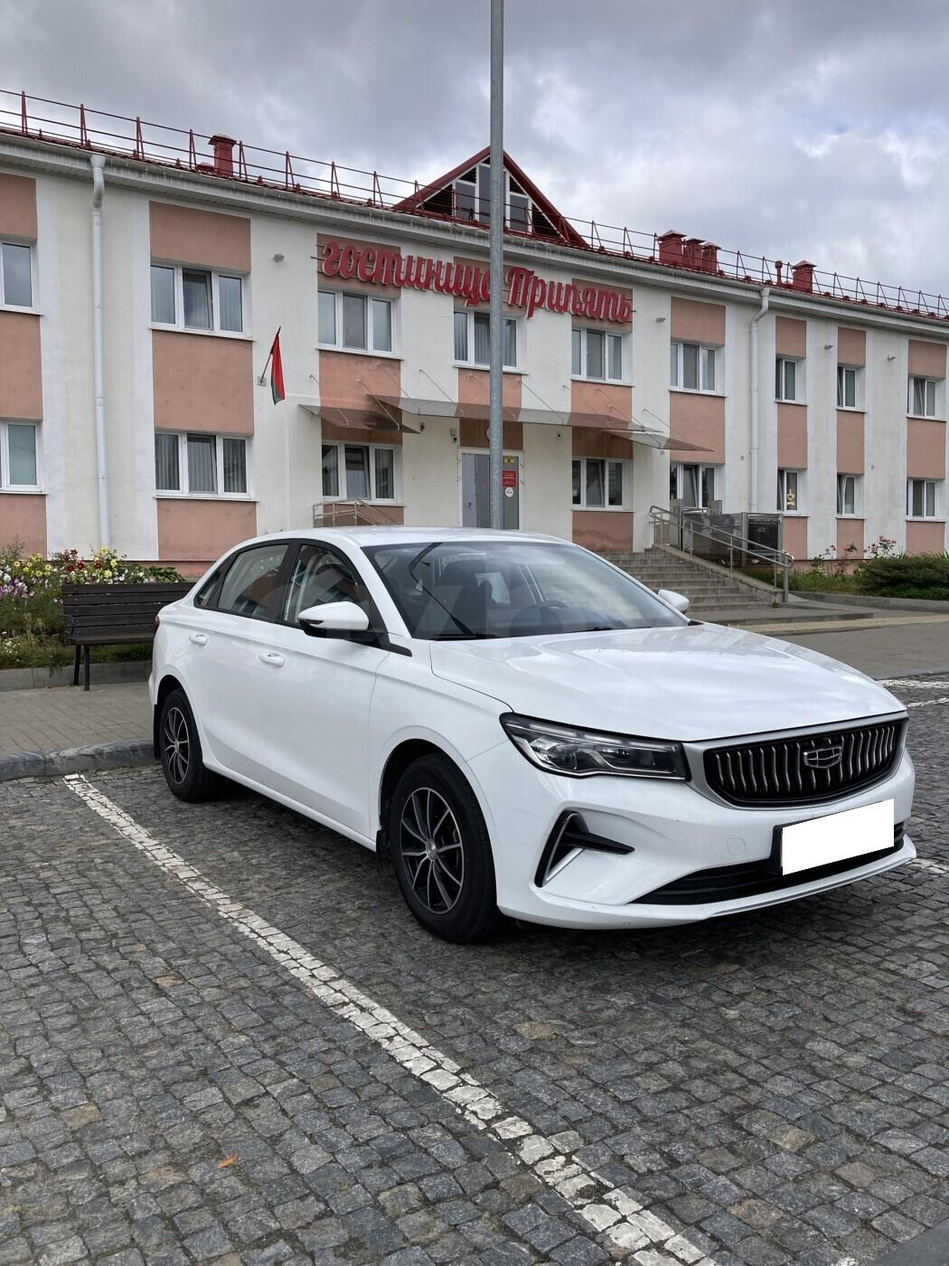Emgrand_2021: (143, 515, 931, 948)
